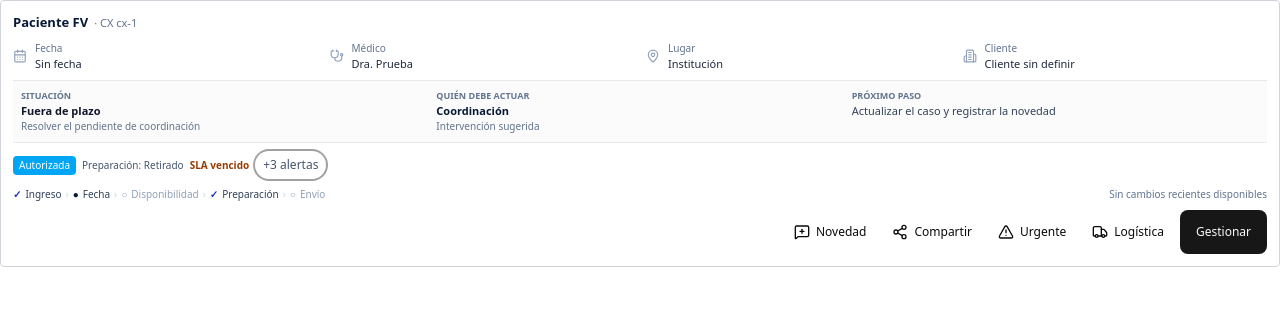
Test: CoordinatorInboxView compact case card › shows at most three chips and discloses additional alerts by touch or keyboard focus
Expected: the text "SLA vencido" is shown, [190,158,249,172]
Click the button "+3 alertas": click(291, 165) [255,151,326,179]
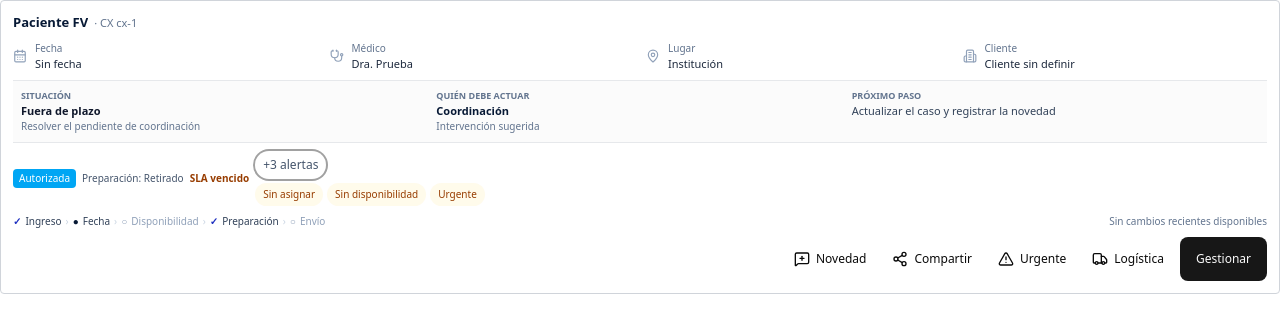
Expected: the list named "Alertas adicionales" reads "Sin asignar Sin disponibilidad Urgente", [255,183,485,206]
